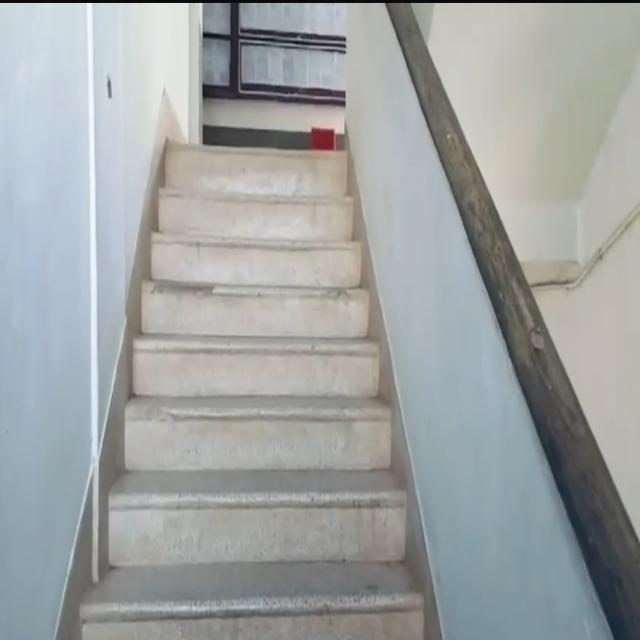stairs ahead at: (84, 141, 419, 613)
